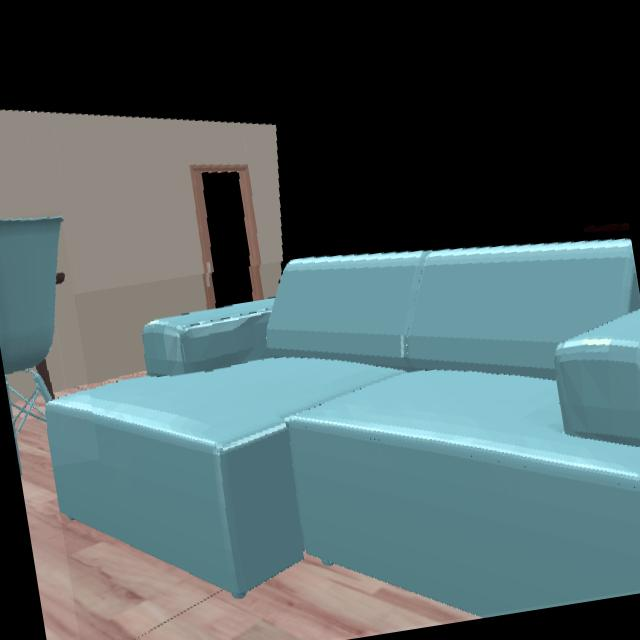chair: (0, 218, 63, 471)
sofa: (46, 241, 640, 615)
